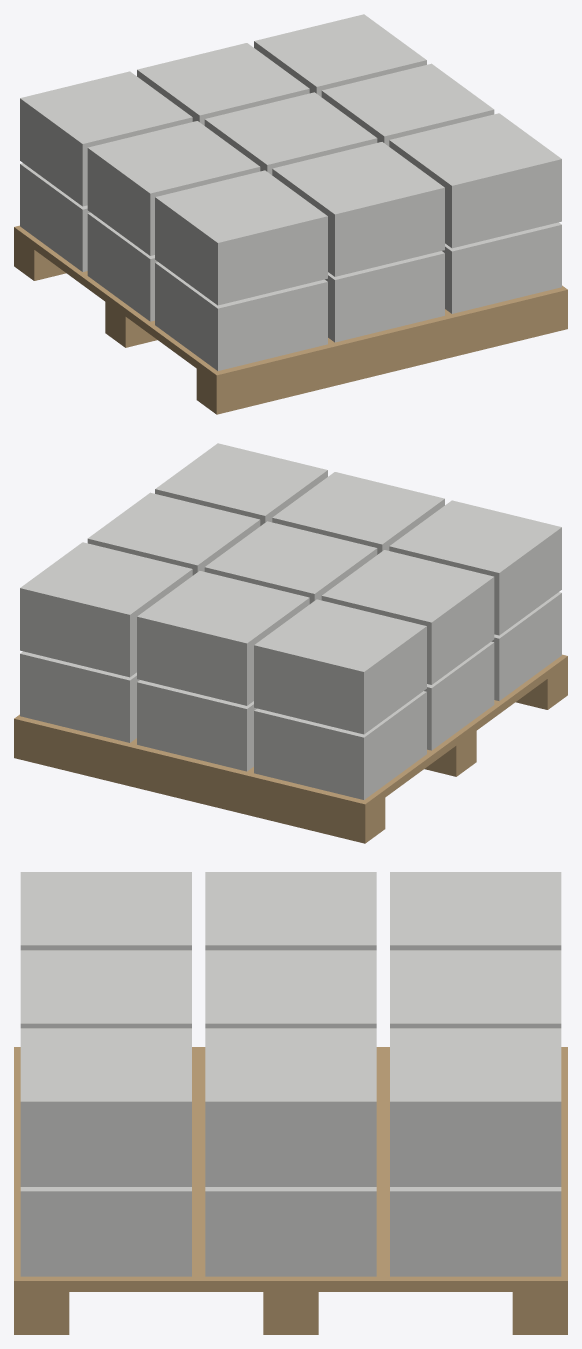
The model's file is pallet_mp_18.glb.
The picture shows the model from 3 angles, top to bottom: view 1: azimuth 30°, elevation 25°; view 2: azimuth 150°, elevation 25°; view 3: azimuth 270°, elevation 25°; orthographic projection. The views are drawn at different scales.
Parts seen in each view (by area): view 1: PalletMP; view 2: PalletMP; view 3: PalletMP.
Part boxes in pixels (bbox=[...]): PalletMP: bbox=[14, 14, 567, 414]; PalletMP: bbox=[14, 443, 567, 843]; PalletMP: bbox=[14, 872, 567, 1334].
Bounding box in the file's own units: 1 × 0.46 × 1.
